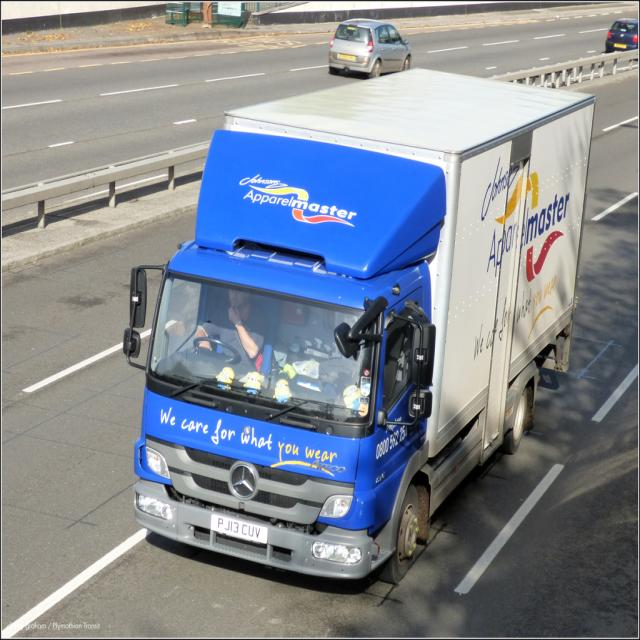Heavy Duty Truck: (121, 61, 599, 595)
Passenger Car: (326, 17, 414, 79), (600, 13, 640, 62)
